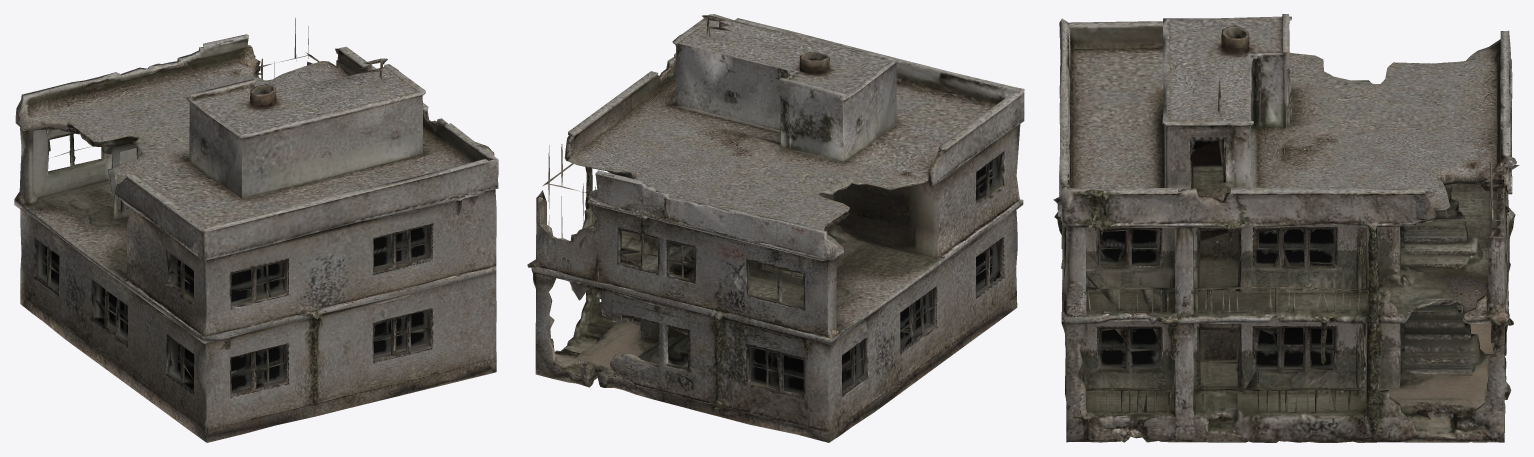
File: tripo_convert_1eea6edd-4610-4061-9893-32169f79b0c9.fbx
3 renders of one model, left to right at view 1: azimuth 30°, elevation 25°; view 2: azimuth 150°, elevation 25°; view 3: azimuth 270°, elevation 25°, orthographic. The views are drawn at different scales.
Parts seen in each view (by area): view 1: tripo_node_1eea6edd; view 2: tripo_node_1eea6edd; view 3: tripo_node_1eea6edd.
Part boxes in pixels (x1=…): tripo_node_1eea6edd: x1=14, y1=17, x2=498, y2=442; tripo_node_1eea6edd: x1=527, y1=14, x2=1024, y2=442; tripo_node_1eea6edd: x1=1053, y1=14, x2=1519, y2=442.
Size of the model in its own units: 0.876 by 0.7671 by 0.9853.
Materials: 1 (1 with a texture image).
